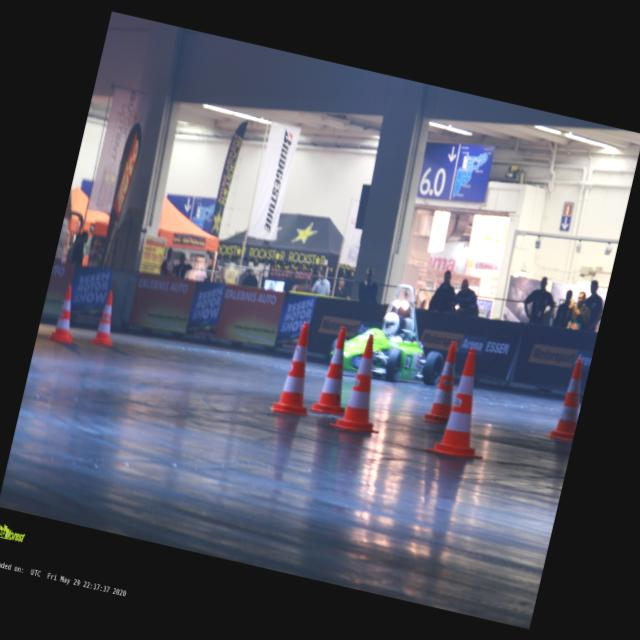large_orange_cone: (426, 342, 504, 463), (329, 330, 398, 436), (308, 322, 366, 420), (270, 319, 326, 418), (422, 338, 471, 427), (547, 355, 590, 442), (47, 282, 84, 344), (90, 288, 124, 348)
